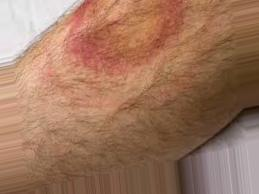Tick: (66, 0, 186, 71)
